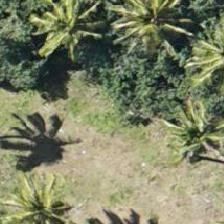coconut_tree: (23, 0, 113, 74), (115, 0, 205, 62), (3, 167, 93, 223), (174, 16, 223, 106)
